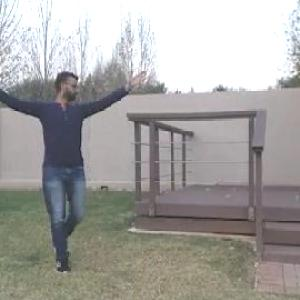takeoff: (0, 56, 156, 271)
